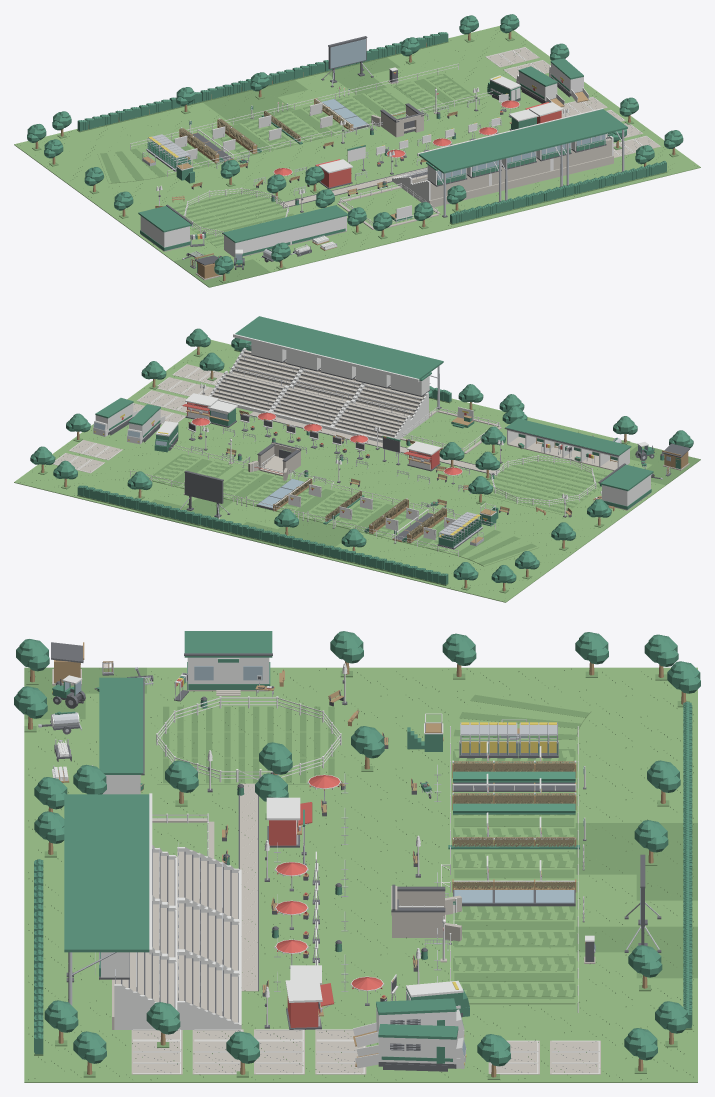
File: racecourse-and-parade-ring-finishing-str-22b826b2-starter-scene__38657.glb
3 renders of one model, top to bottom at view 1: azimuth 30°, elevation 25°; view 2: azimuth 150°, elevation 25°; view 3: azimuth 270°, elevation 25°, orthographic. The views are drawn at different scales.
Visible parts, largest first — view 1: 284-grandstand-roof-canopy/2, 287-grandstand-roof-canopy/2, 290-grandstand-roof-canopy/2, 289-grandstand-tier-high/0, 161-turf-track-bend/0, 286-grandstand-tier-high/0, 248-weighing-room-front/2, 247-saddling-box-run/2, 283-grandstand-tier-high/0, 246-saddling-box-run/2, 246-saddling-box-run/1, 215-horse-walk-tunnel-mouth/0 (+55 smaller); view 2: 284-grandstand-roof-canopy/2, 288-grandstand-tier-low/0, 285-grandstand-tier-low/0, 287-grandstand-roof-canopy/2, 290-grandstand-roof-canopy/2, 282-grandstand-tier-low/0, 289-grandstand-tier-high/0, 283-grandstand-tier-high/0, 286-grandstand-tier-high/0, 161-turf-track-bend/0, 363-big-screen-frame/0, 215-horse-walk-tunnel-mouth/0 (+62 smaller); view 3: 290-grandstand-roof-canopy/2, 284-grandstand-roof-canopy/2, 287-grandstand-roof-canopy/2, 248-weighing-room-front/2, 215-horse-walk-tunnel-mouth/0, 285-grandstand-tier-low/0, 288-grandstand-tier-low/0, 282-grandstand-tier-low/0, 161-turf-track-bend/0, 246-saddling-box-run/2, 247-saddling-box-run/2, 389-horsebox-body/1 (+177 smaller).
Part boxes in pixels (x1,y1,x2,y2): 284-grandstand-roof-canopy/2: [419, 139, 504, 173]; 287-grandstand-roof-canopy/2: [481, 124, 566, 158]; 290-grandstand-roof-canopy/2: [542, 109, 627, 143]; 289-grandstand-tier-high/0: [552, 138, 613, 178]; 161-turf-track-bend/0: [97, 147, 176, 183]; 286-grandstand-tier-high/0: [491, 158, 552, 193]; 248-weighing-room-front/2: [138, 206, 192, 250]; 247-saddling-box-run/2: [278, 205, 348, 243]; 283-grandstand-tier-high/0: [429, 174, 490, 207]; 246-saddling-box-run/2: [223, 219, 293, 255]; 246-saddling-box-run/1: [224, 229, 291, 257]; 215-horse-walk-tunnel-mouth/0: [371, 106, 423, 137]; 284-grandstand-roof-canopy/2: [358, 346, 443, 379]; 288-grandstand-tier-low/0: [212, 373, 283, 411]; 285-grandstand-tier-low/0: [273, 388, 345, 426]; 287-grandstand-roof-canopy/2: [296, 331, 381, 363]; 290-grandstand-roof-canopy/2: [235, 316, 320, 348]; 282-grandstand-tier-low/0: [334, 403, 406, 439]; 289-grandstand-tier-high/0: [231, 350, 299, 386]; 283-grandstand-tier-high/0: [354, 384, 429, 417]; 286-grandstand-tier-high/0: [293, 369, 361, 401]; 161-turf-track-bend/0: [449, 527, 538, 566]; 363-big-screen-frame/0: [184, 470, 230, 517]; 215-horse-walk-tunnel-mouth/0: [248, 443, 300, 480]; 290-grandstand-roof-canopy/2: [64, 898, 149, 952]; 284-grandstand-roof-canopy/2: [64, 794, 149, 845]; 287-grandstand-roof-canopy/2: [64, 846, 149, 897]; 248-weighing-room-front/2: [184, 631, 272, 689]; 215-horse-walk-tunnel-mouth/0: [391, 886, 461, 941]; 285-grandstand-tier-low/0: [177, 903, 237, 970]; 288-grandstand-tier-low/0: [177, 955, 237, 1022]; 282-grandstand-tier-low/0: [177, 851, 237, 918]; 161-turf-track-bend/0: [453, 693, 591, 744]; 246-saddling-box-run/2: [99, 677, 143, 726]; 247-saddling-box-run/2: [99, 724, 143, 774]; 389-horsebox-body/1: [355, 1033, 466, 1068].
Bounding box in the file's own units: 97.43 × 9.02 × 67.31.
